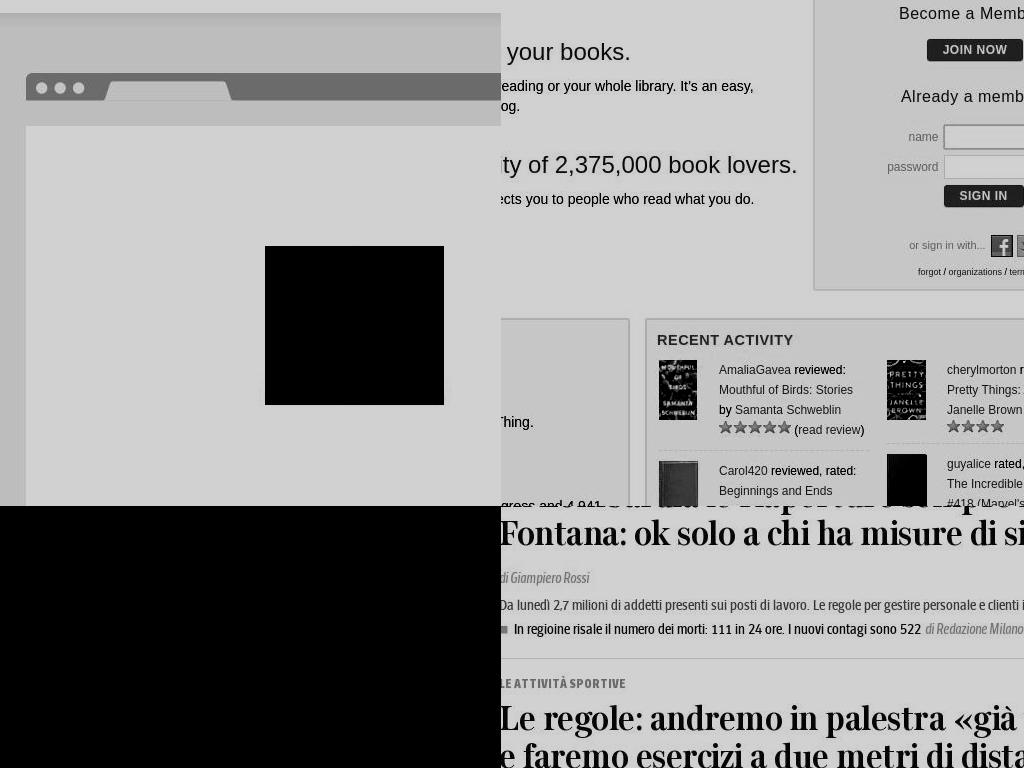button: (0, 506, 501, 768), (501, 621, 1024, 638)
field: (926, 39, 1024, 61), (943, 125, 1024, 149), (943, 155, 1024, 179), (943, 185, 1024, 207)
heading: (501, 513, 1024, 554), (501, 698, 1024, 739), (501, 736, 1024, 768), (501, 38, 798, 66), (501, 151, 798, 179), (657, 330, 1024, 350), (501, 506, 1024, 516), (825, 3, 1024, 24), (825, 86, 1024, 107), (501, 330, 618, 350), (501, 464, 618, 484)
image: (0, 506, 501, 768), (265, 246, 444, 405), (887, 360, 926, 420), (659, 360, 697, 420), (887, 454, 927, 506), (659, 461, 698, 506), (719, 421, 791, 434), (947, 420, 1004, 433), (990, 235, 1011, 255), (1016, 235, 1024, 255)
link: (501, 597, 1024, 614), (947, 477, 1024, 506), (719, 383, 853, 397), (735, 403, 842, 417), (947, 383, 1024, 397), (947, 403, 1022, 417), (719, 363, 791, 377), (947, 363, 1016, 377), (798, 423, 861, 437), (719, 464, 768, 478), (947, 457, 991, 471), (948, 267, 1003, 277), (917, 267, 941, 277), (1009, 267, 1024, 277)
text: (501, 76, 798, 116), (514, 621, 921, 638), (501, 189, 798, 209), (501, 679, 1024, 688), (886, 122, 944, 152), (886, 152, 944, 182), (921, 622, 1024, 638), (501, 570, 589, 587), (767, 464, 856, 478), (909, 238, 990, 251), (791, 363, 847, 377), (501, 414, 535, 430), (991, 457, 1024, 471), (719, 403, 735, 417), (791, 423, 798, 437), (1002, 267, 1011, 277), (940, 267, 948, 277), (860, 423, 865, 437)
